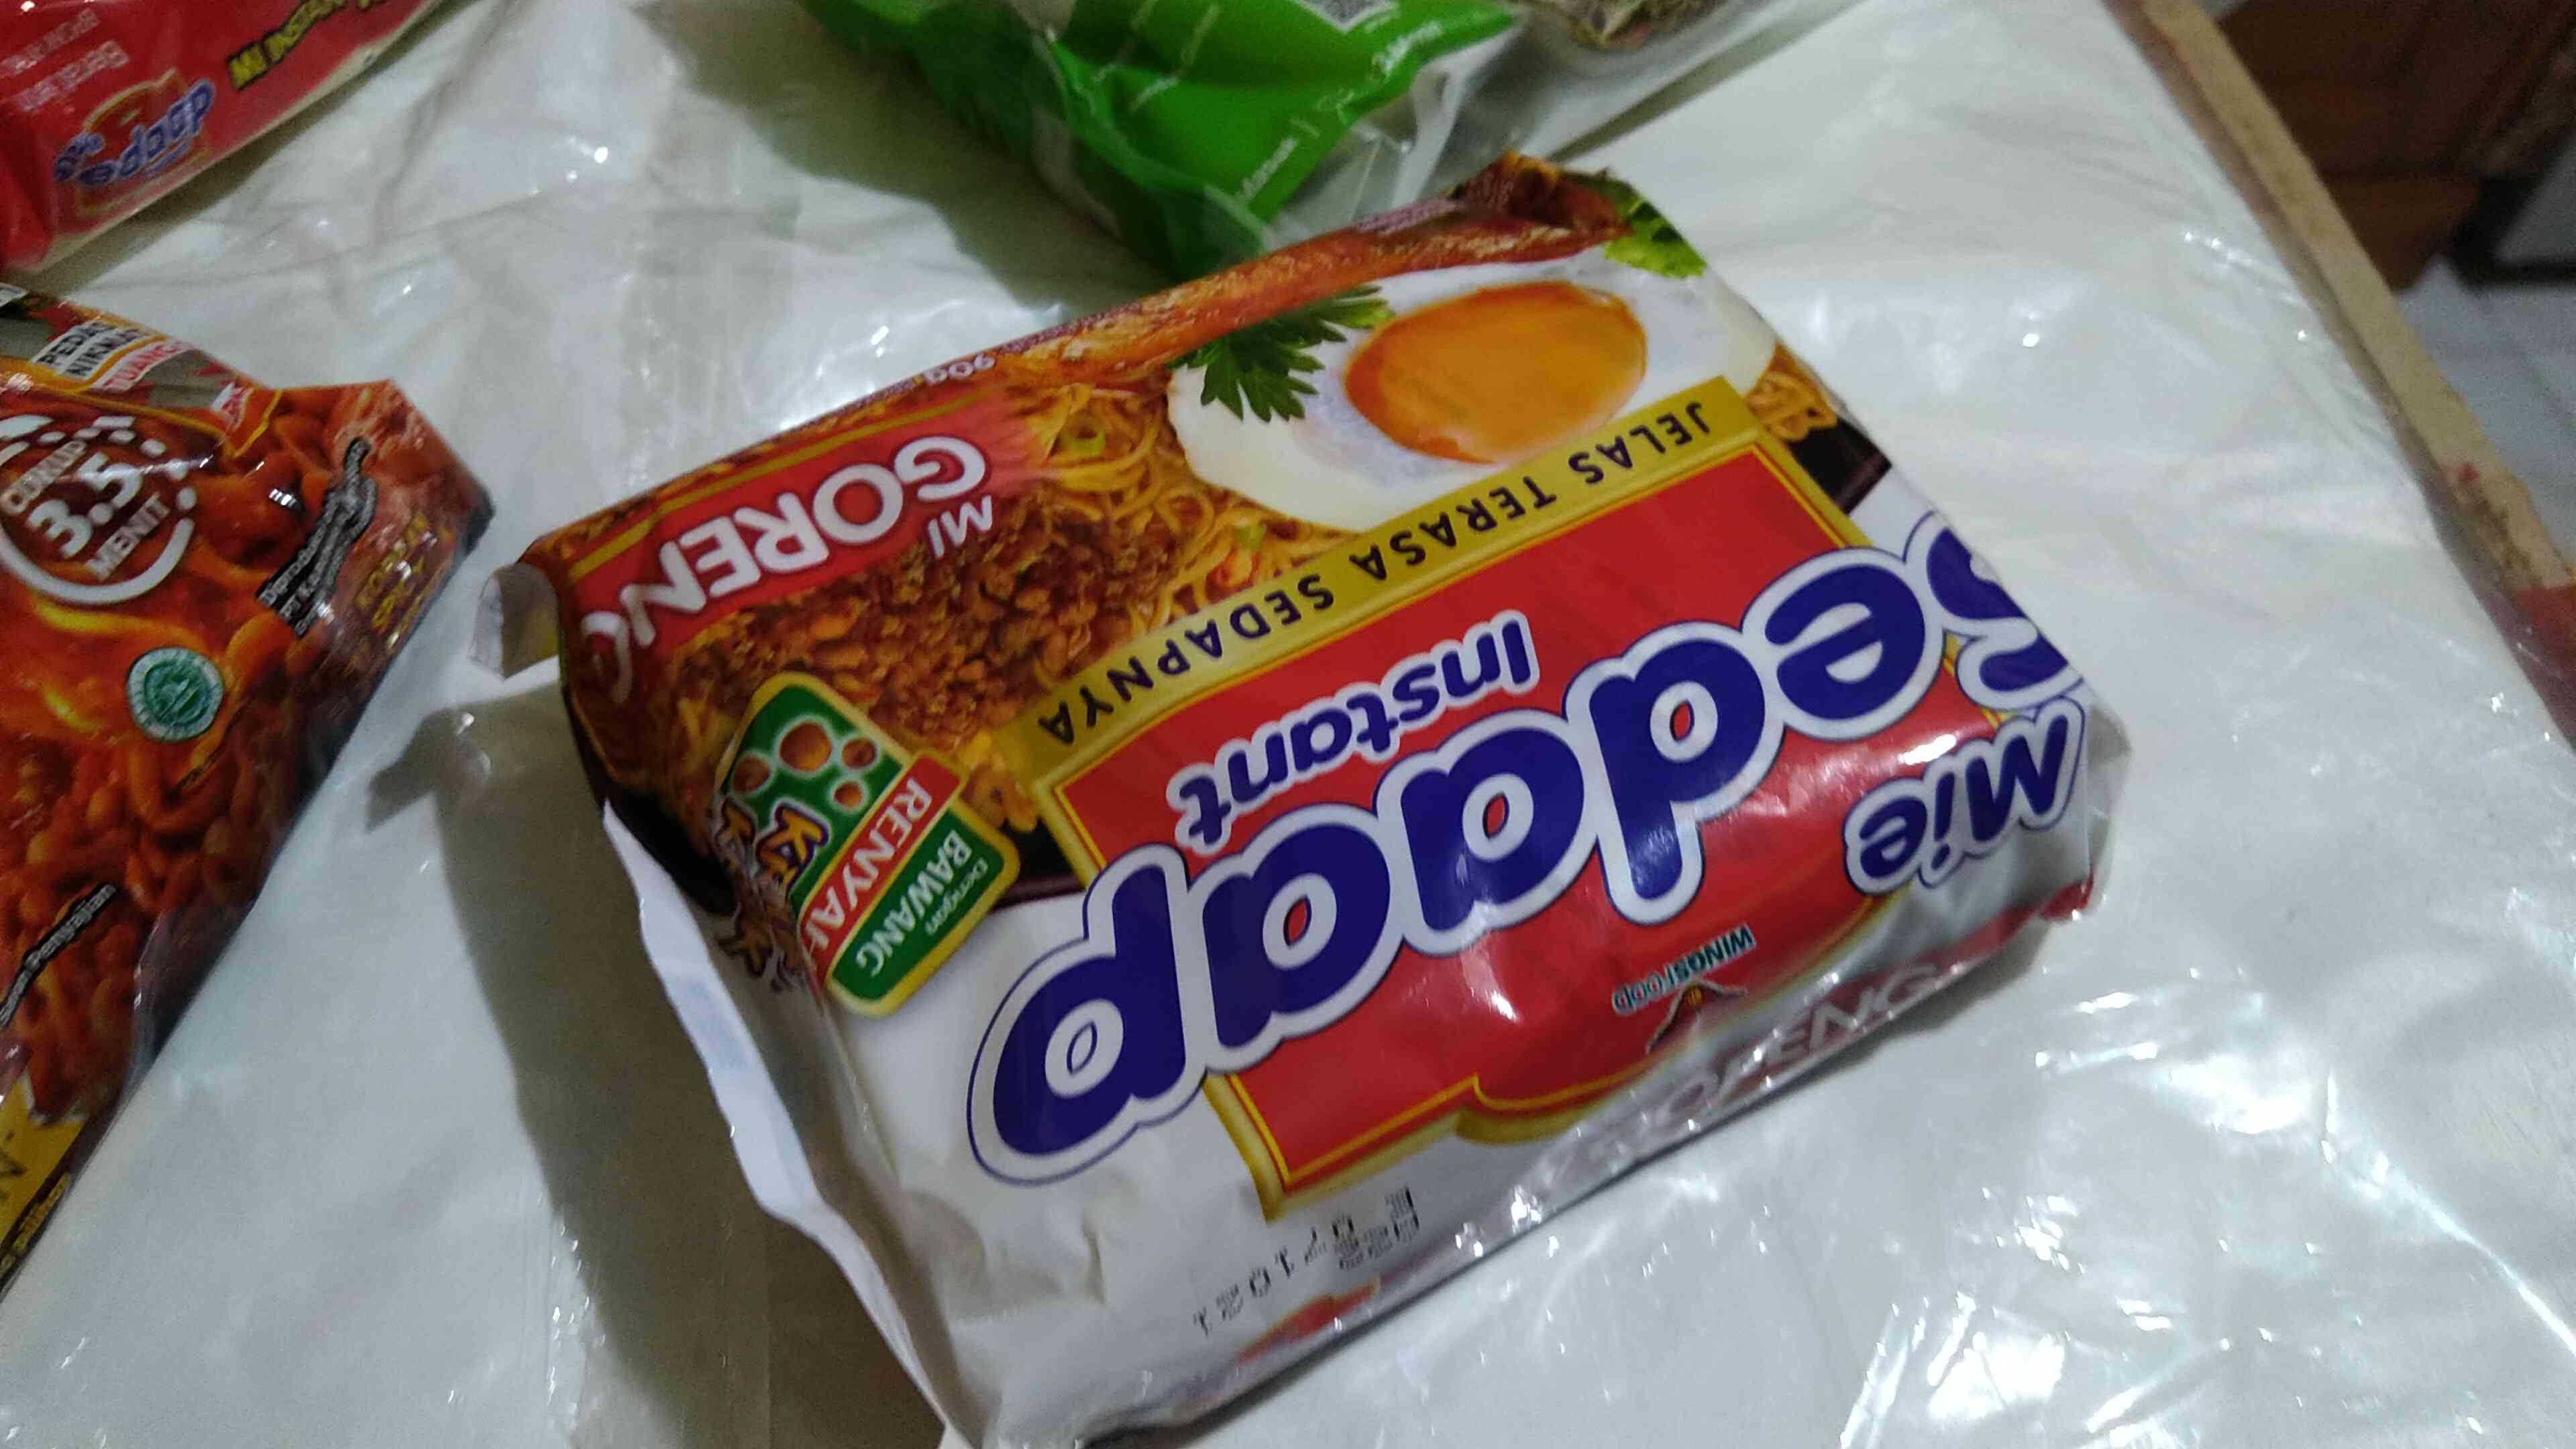sedaap goreng: (517, 168, 2151, 1389)
